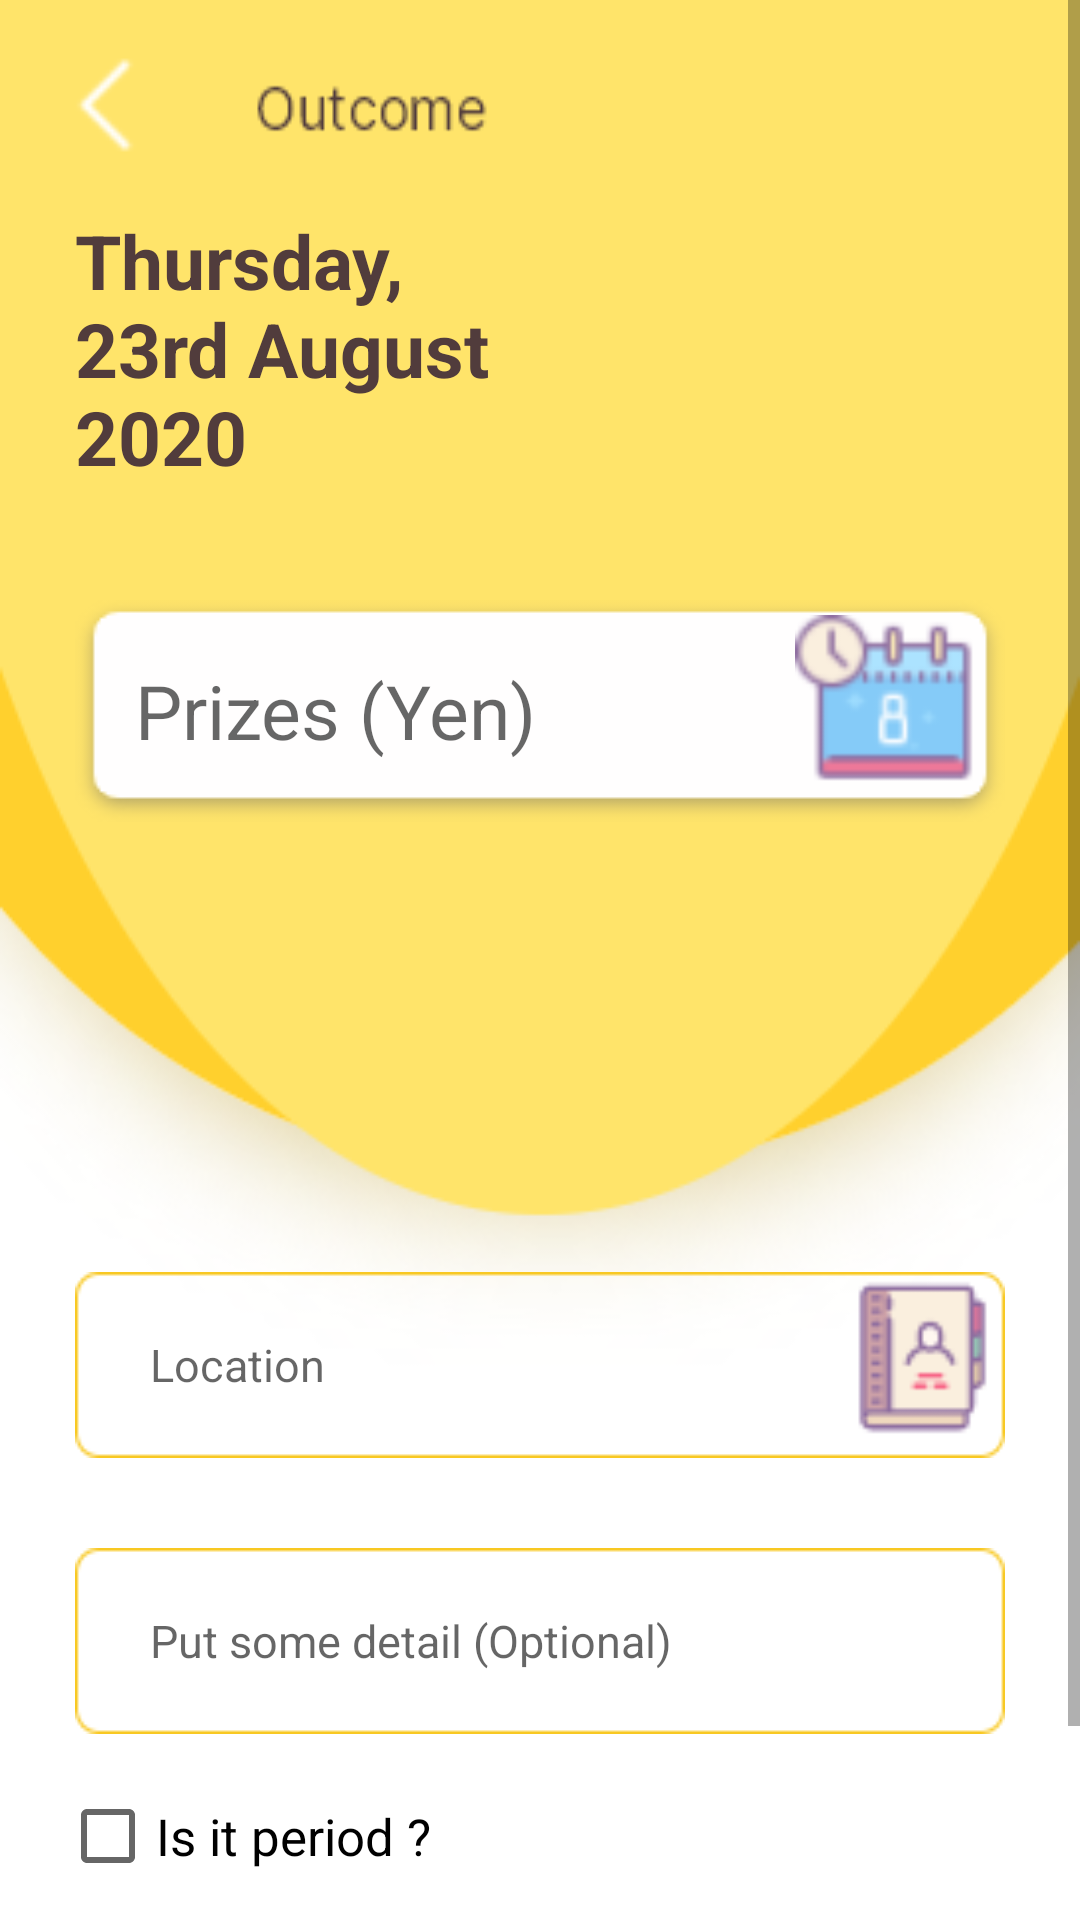

Named icons in this screenshot (1080px x 1920px) and their centers, (x,y):
back: (106,105)
calendar: (883,697)
contact: (922,1358)
